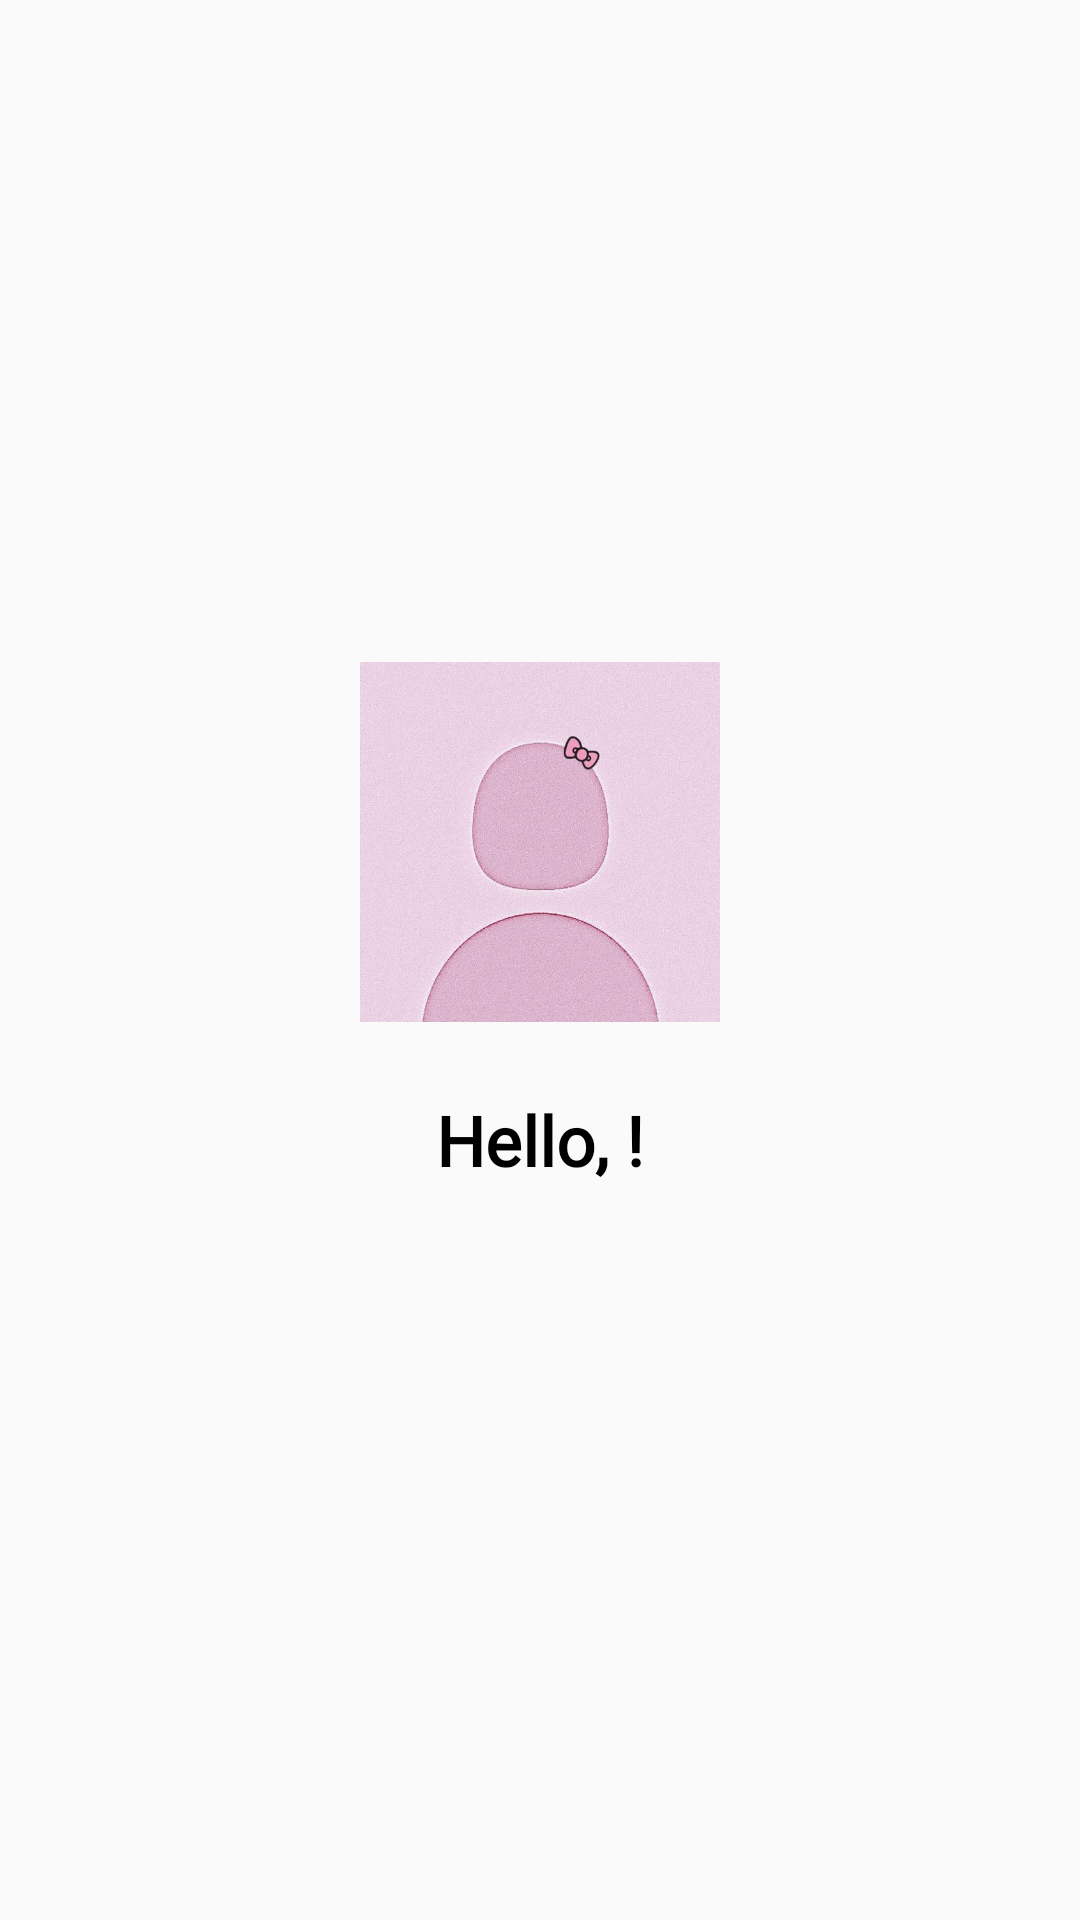

Icon bounding boxes for this 1080 x 1920 phone screenshot, format (x1, y1, x2, y2):
Profile Image: (360, 662, 720, 1022)
